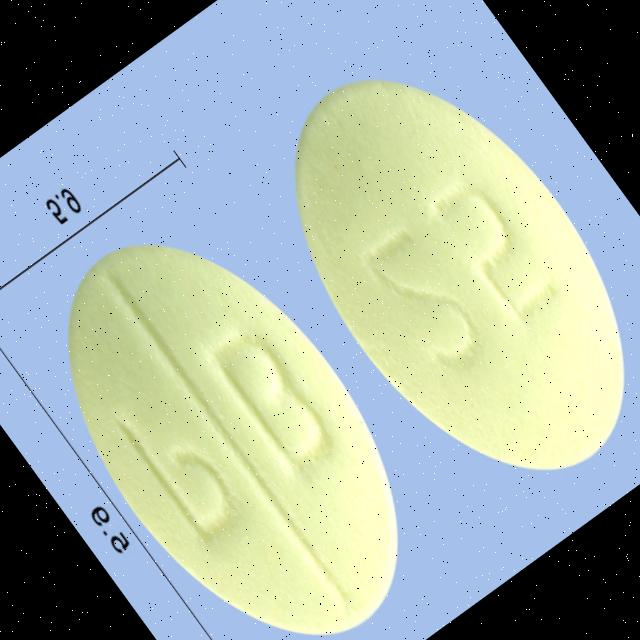Azabio - 50mg: (0, 181, 471, 640), (224, 16, 640, 535)
